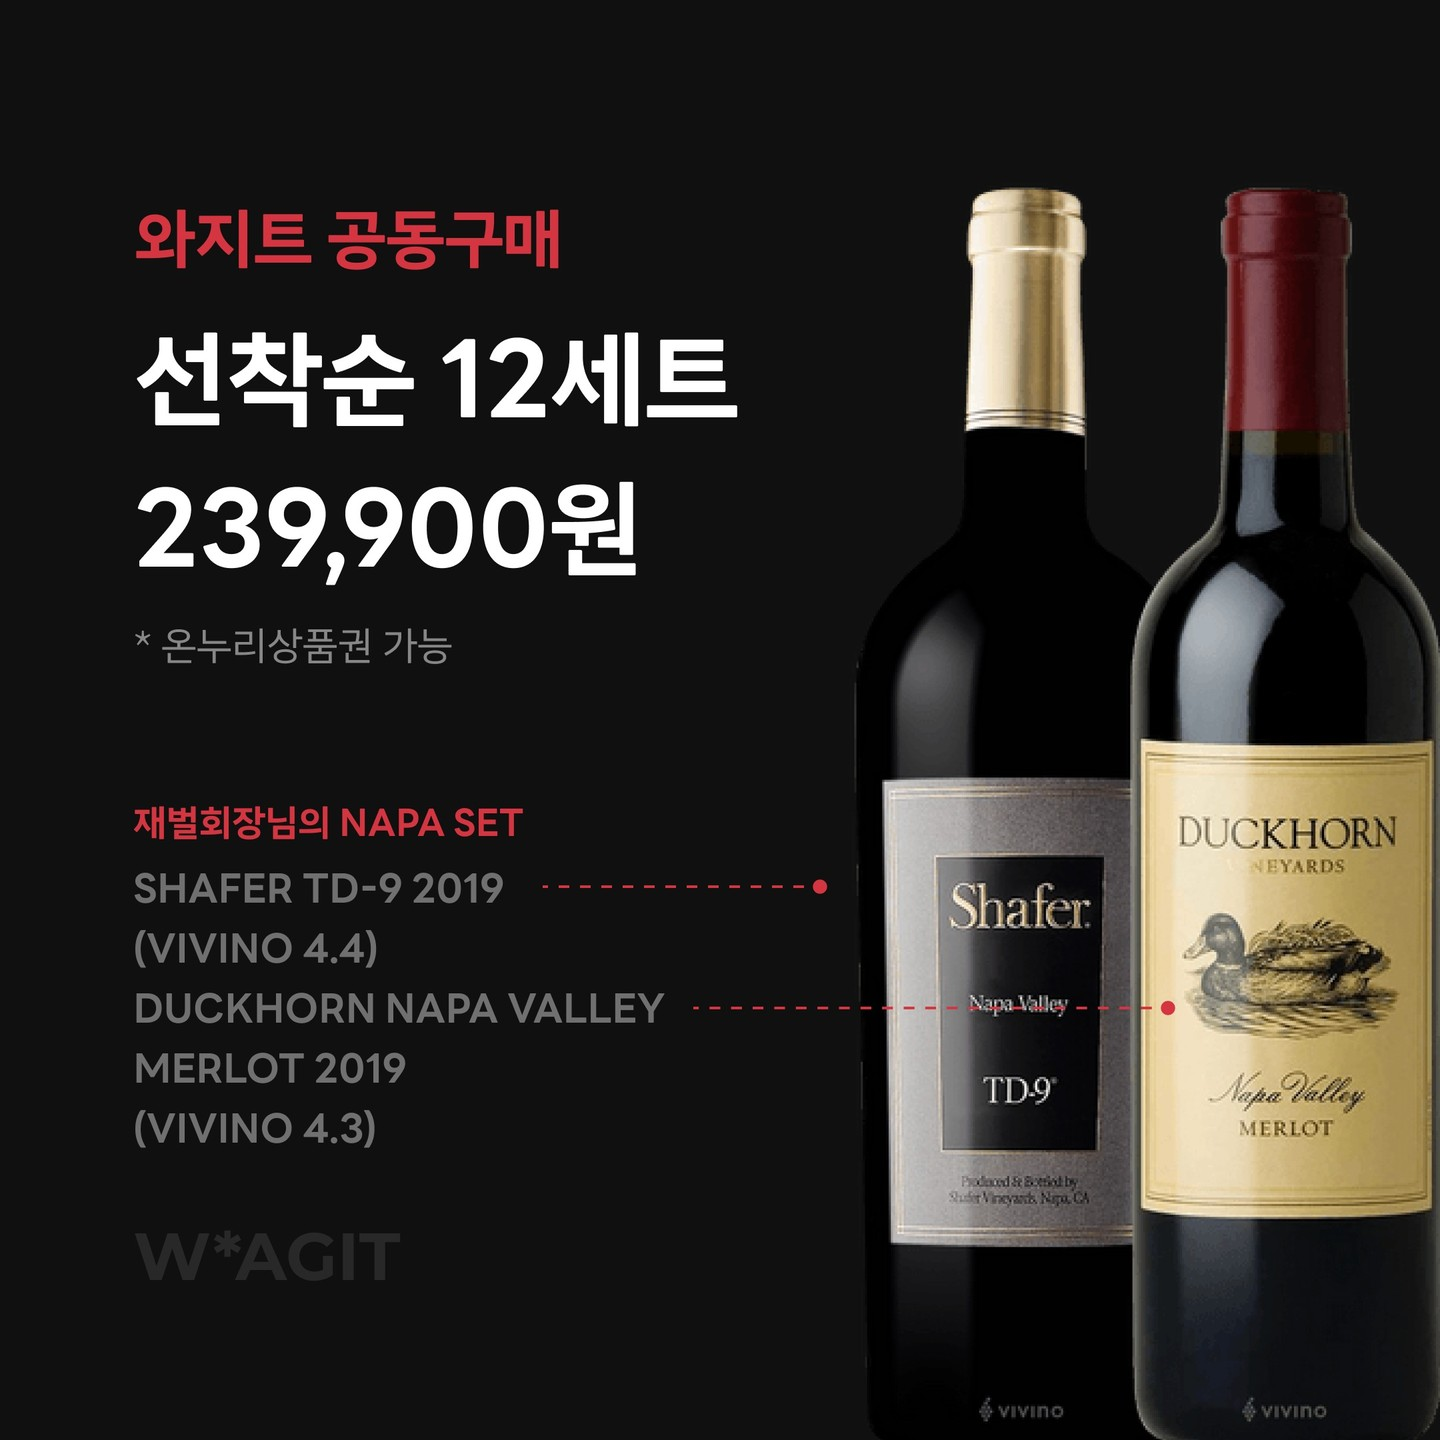alcohol: (843, 175, 1168, 1440), (1116, 175, 1440, 1440)
